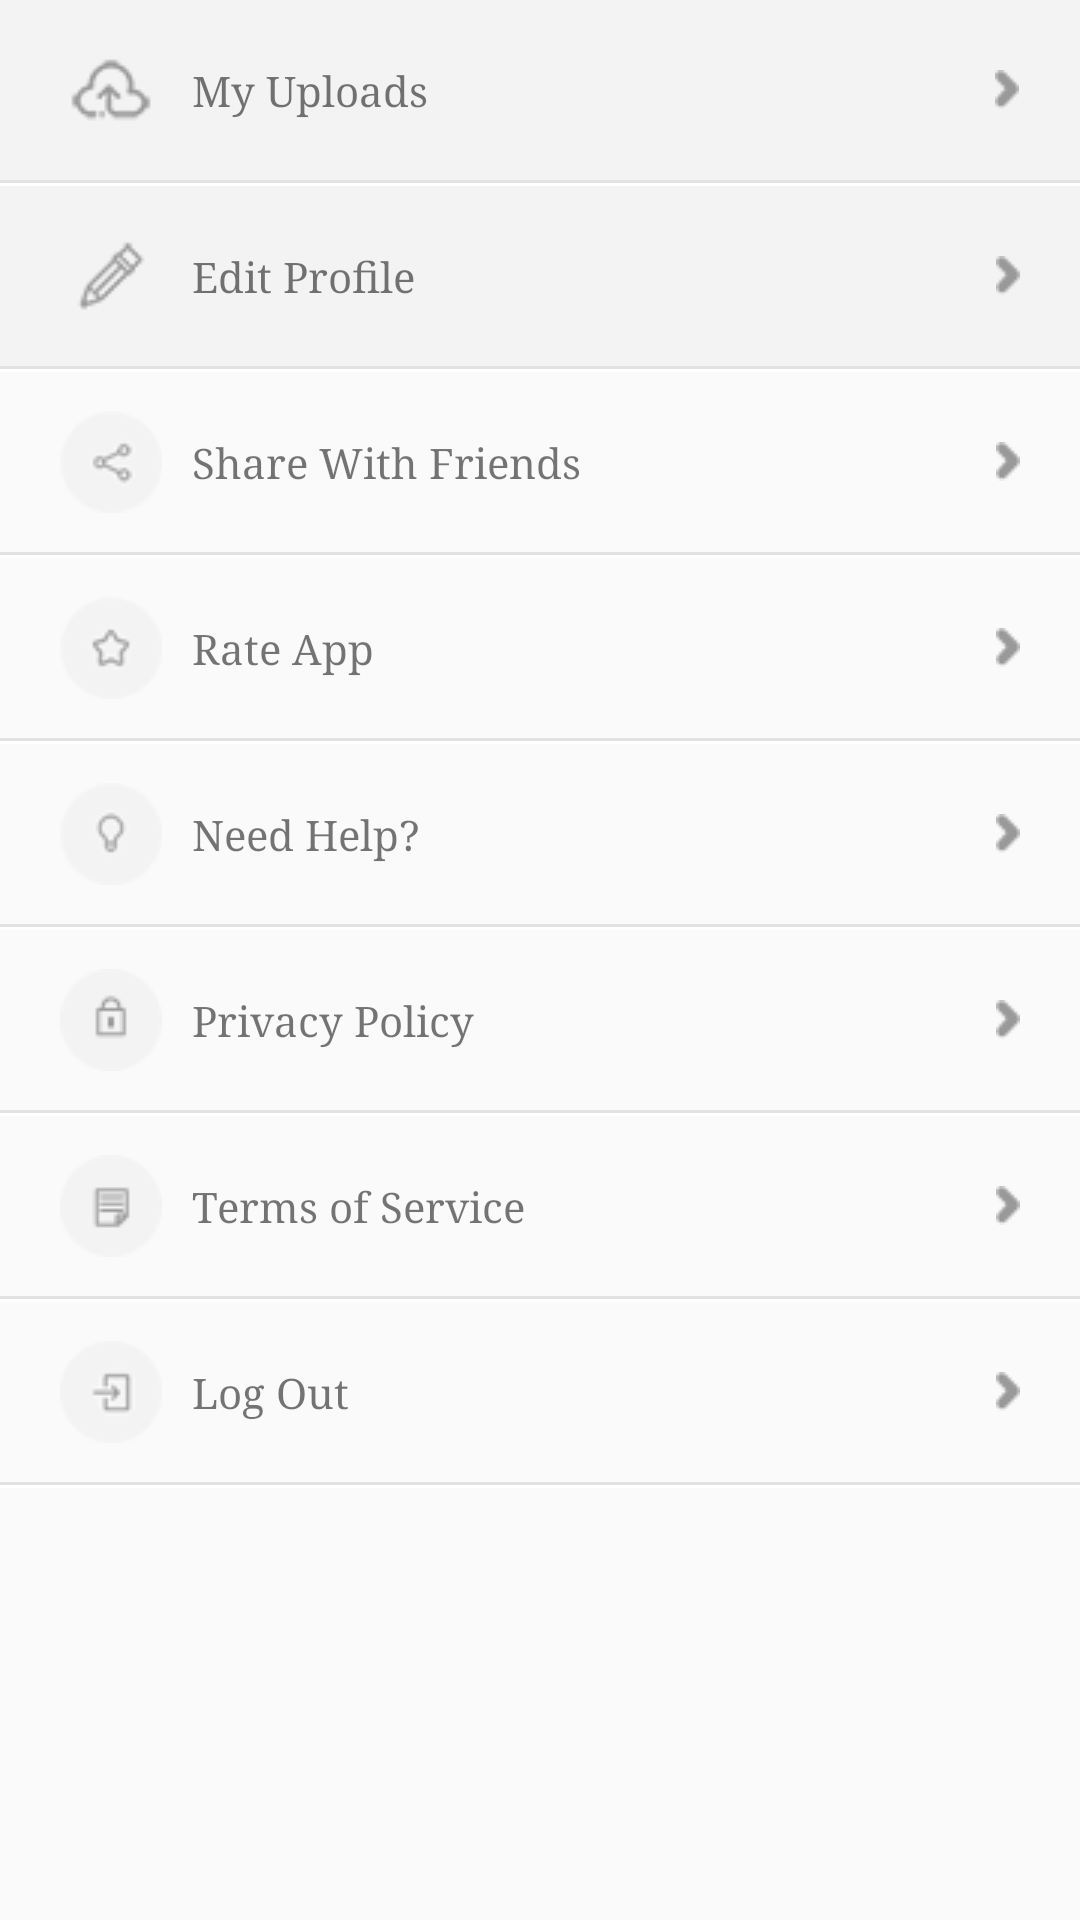

Icon bounding boxes for this 1080px×1920px phone screenshot, format (x1, y1, x2, y2):
arrow: (995, 70, 1019, 107), (996, 256, 1020, 293), (996, 442, 1020, 479), (996, 628, 1020, 665), (996, 814, 1020, 851), (996, 1000, 1020, 1037), (996, 1186, 1020, 1223), (996, 1372, 1020, 1409)
circle share: (93, 443, 132, 483)
sign out: (93, 1373, 131, 1412)
